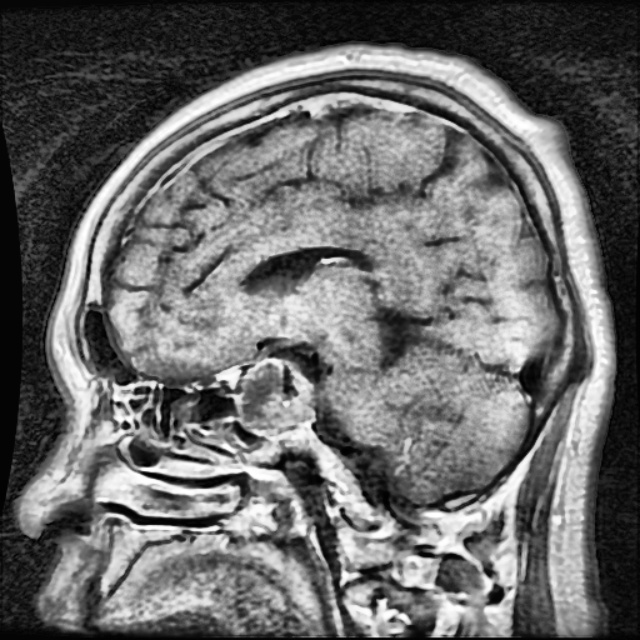Pituitary: (238, 357, 318, 433)
